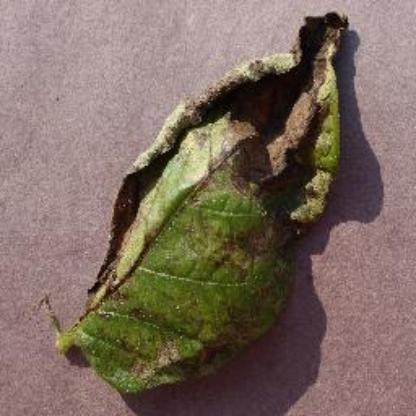Late-Blight: (41, 12, 375, 388)
